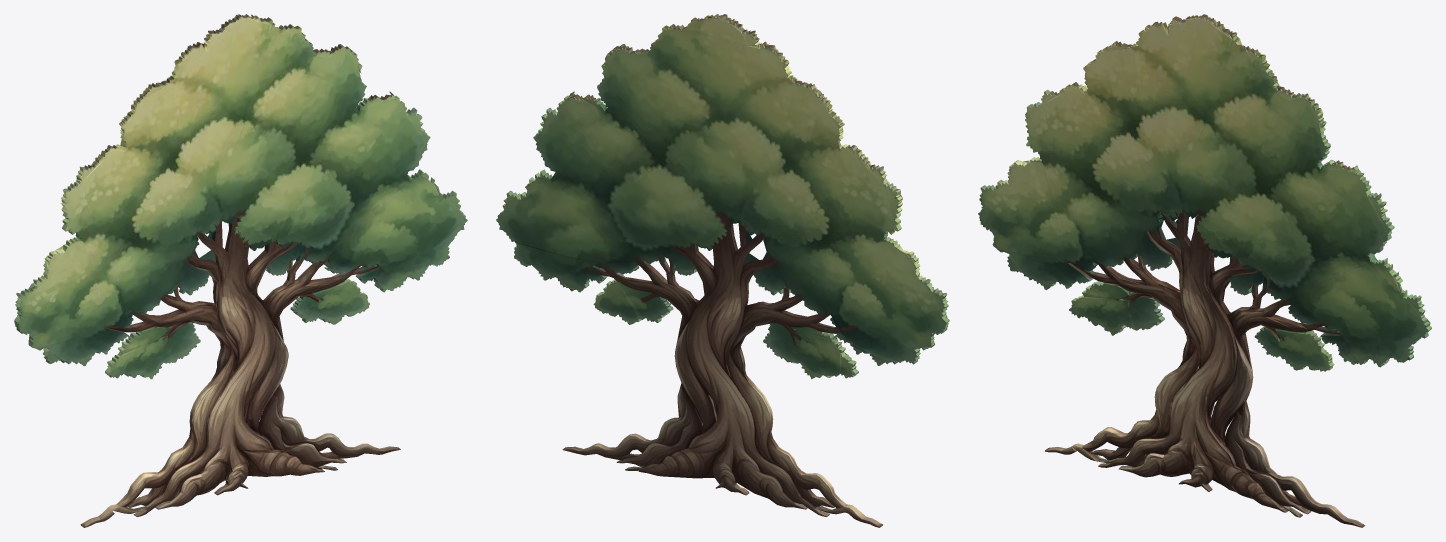
Rendered from big-tree.glb.
3 renders of one model, left to right at view 1: azimuth 30°, elevation 25°; view 2: azimuth 150°, elevation 25°; view 3: azimuth 330°, elevation 25°, orthographic.
Size of the model in its own units: 1.88 by 1.9 by 0.0299.
1 material, 1 textured.
